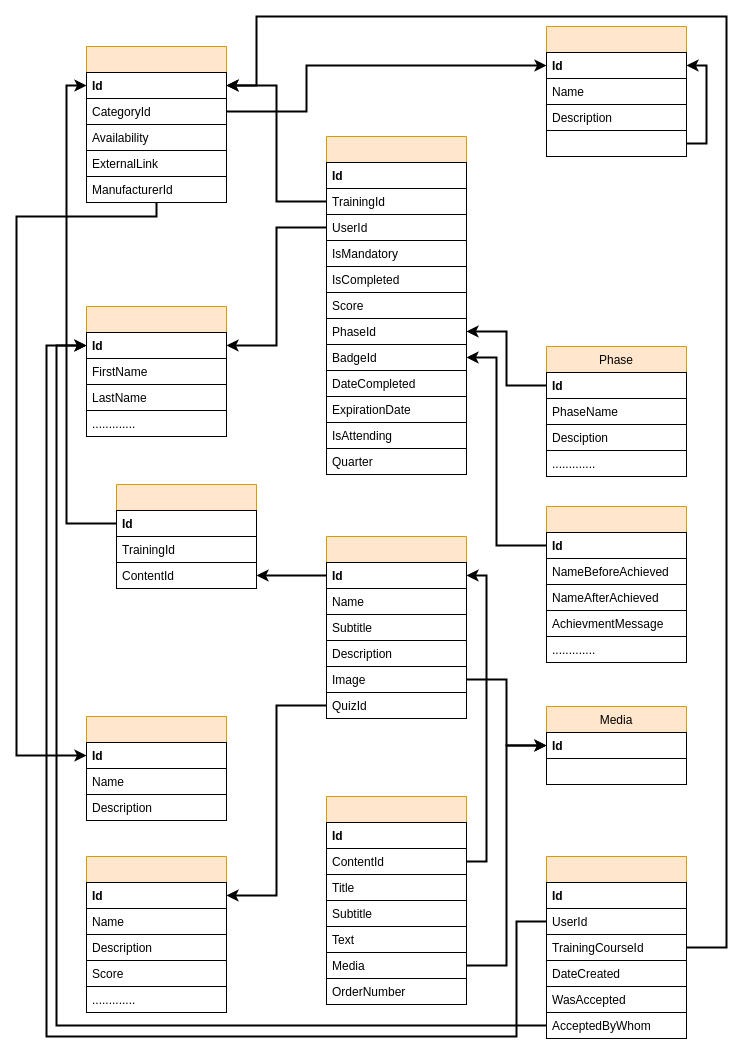
Some shapes in this 743 by 1055 pixel diagram are drawn without their labels. Here are the shapes that lost their labels. From the top down, the box of each, then its label:
(546, 26, 686, 156): TrainingCategory
(86, 46, 226, 202): TrainingCourse
(546, 130, 686, 156): ParentId
(326, 136, 466, 474): TrainingUser
(86, 306, 226, 436): User
(116, 484, 256, 588): TrainingContent
(546, 506, 686, 662): Badge
(326, 536, 466, 718): Content
(86, 716, 226, 820): Manufacturer
(546, 758, 686, 784): Link
(326, 796, 466, 1004): ContentPage
(86, 856, 226, 1012): Quiz
(546, 856, 686, 1038): EnrolmentRequest
